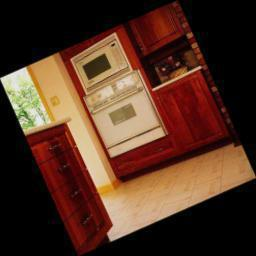Electrodomestico: (82, 72, 170, 162), (63, 33, 140, 94)
